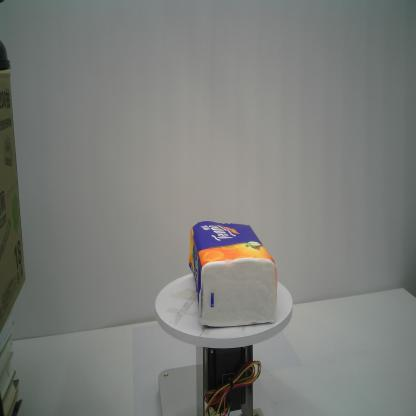Tissue: (187, 219, 279, 329)
